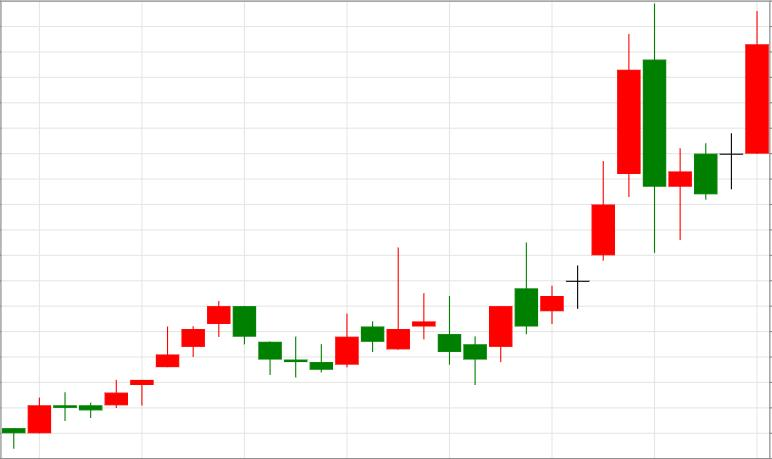bearish_engulfing_fall: (490, 1, 666, 361)
